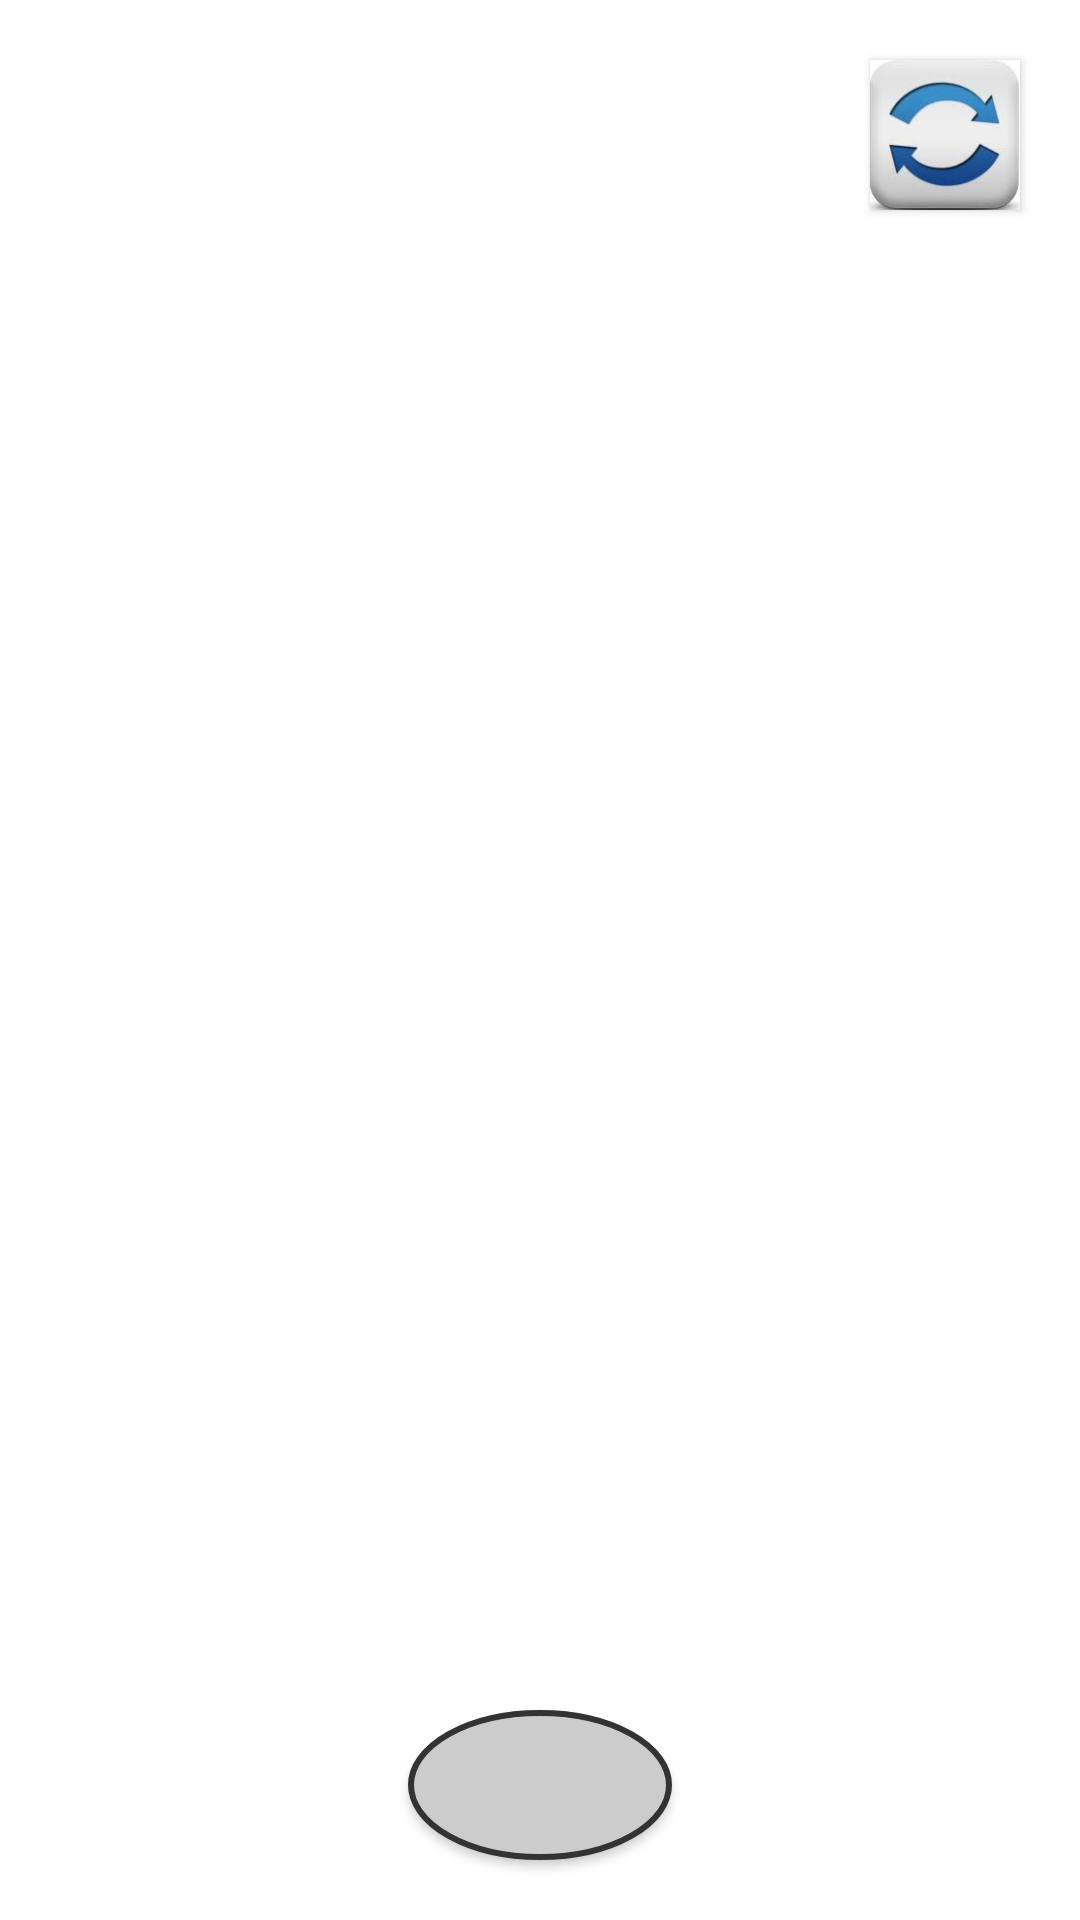

Named icons in this screenshot (1080 × 1920) and their bounding boxes, BBox(x1, y1, x2, y2):
swap: BBox(870, 66, 1019, 210)
